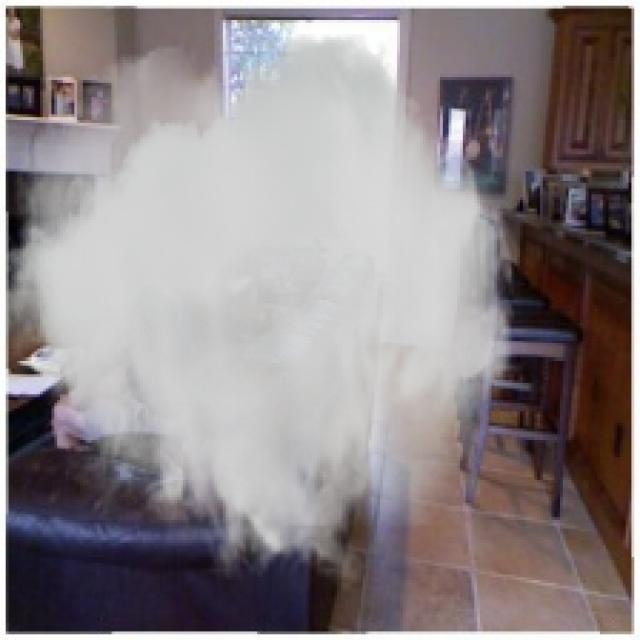smoke: (6, 34, 520, 594)
